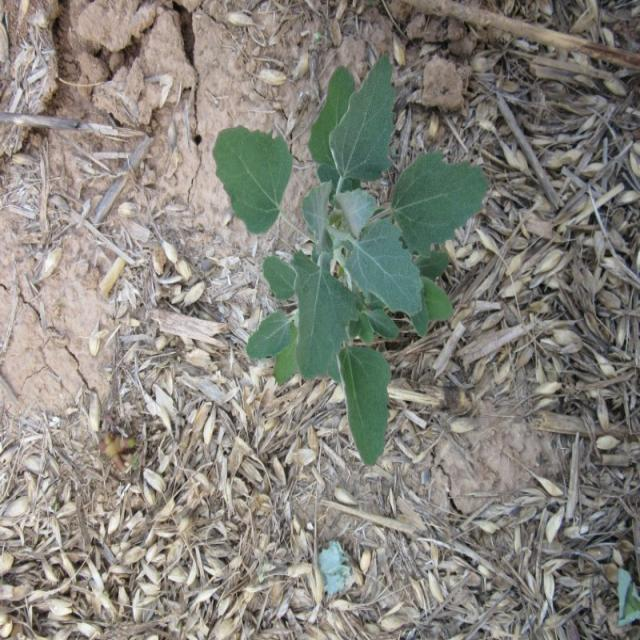ca: (215, 48, 490, 470)
